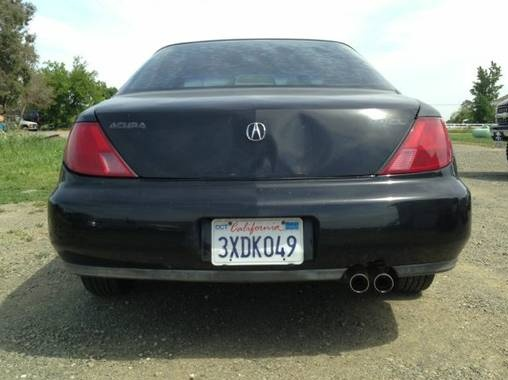acura: (31, 25, 502, 344)
